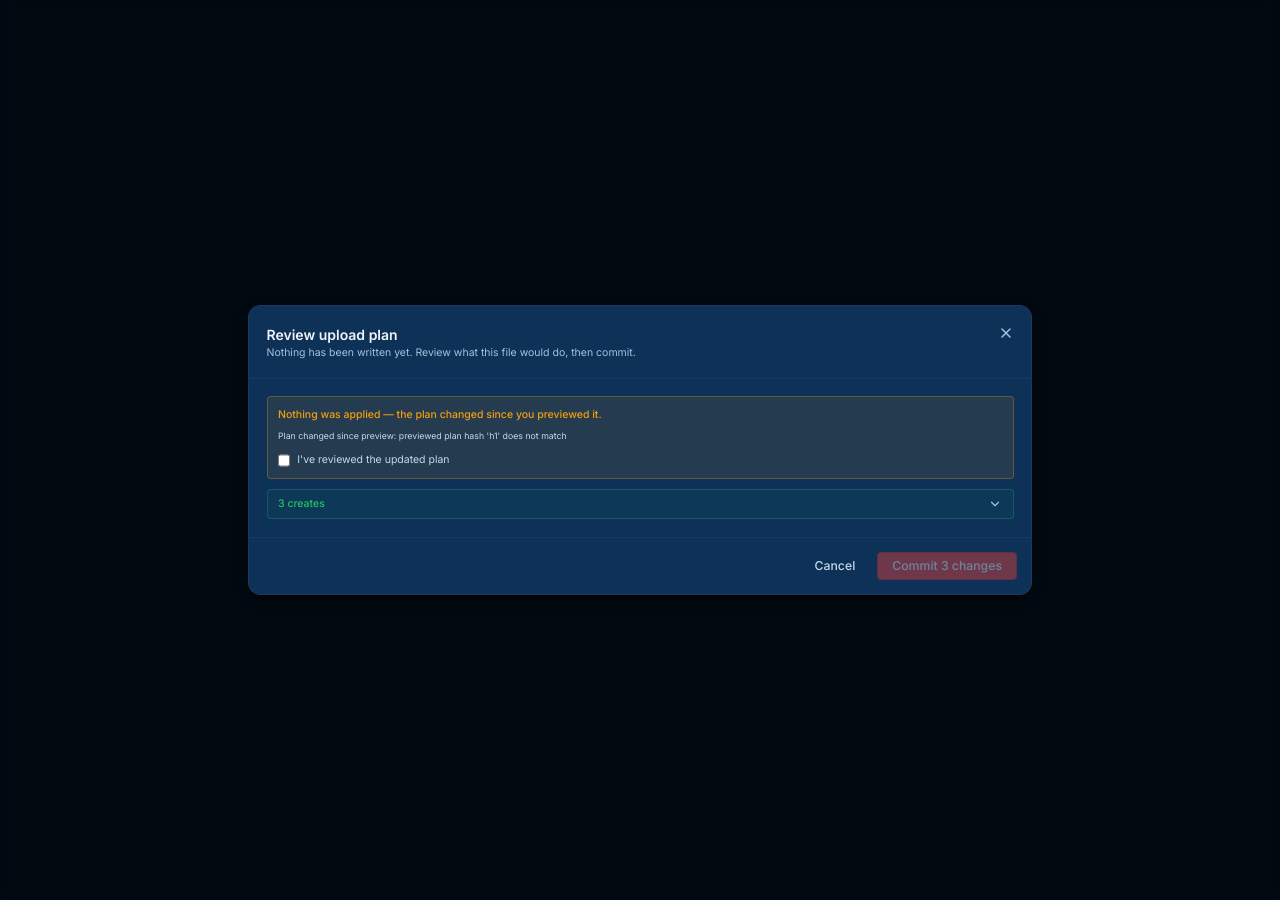
Test case: UploadPlanModal — stale › arms commit once the researcher confirms they reviewed the new plan
The image size is (1280, 900).
Step 1. Click the checkbox labelled "I've reviewed the updated plan" → (284, 461), box [278, 454, 290, 467]
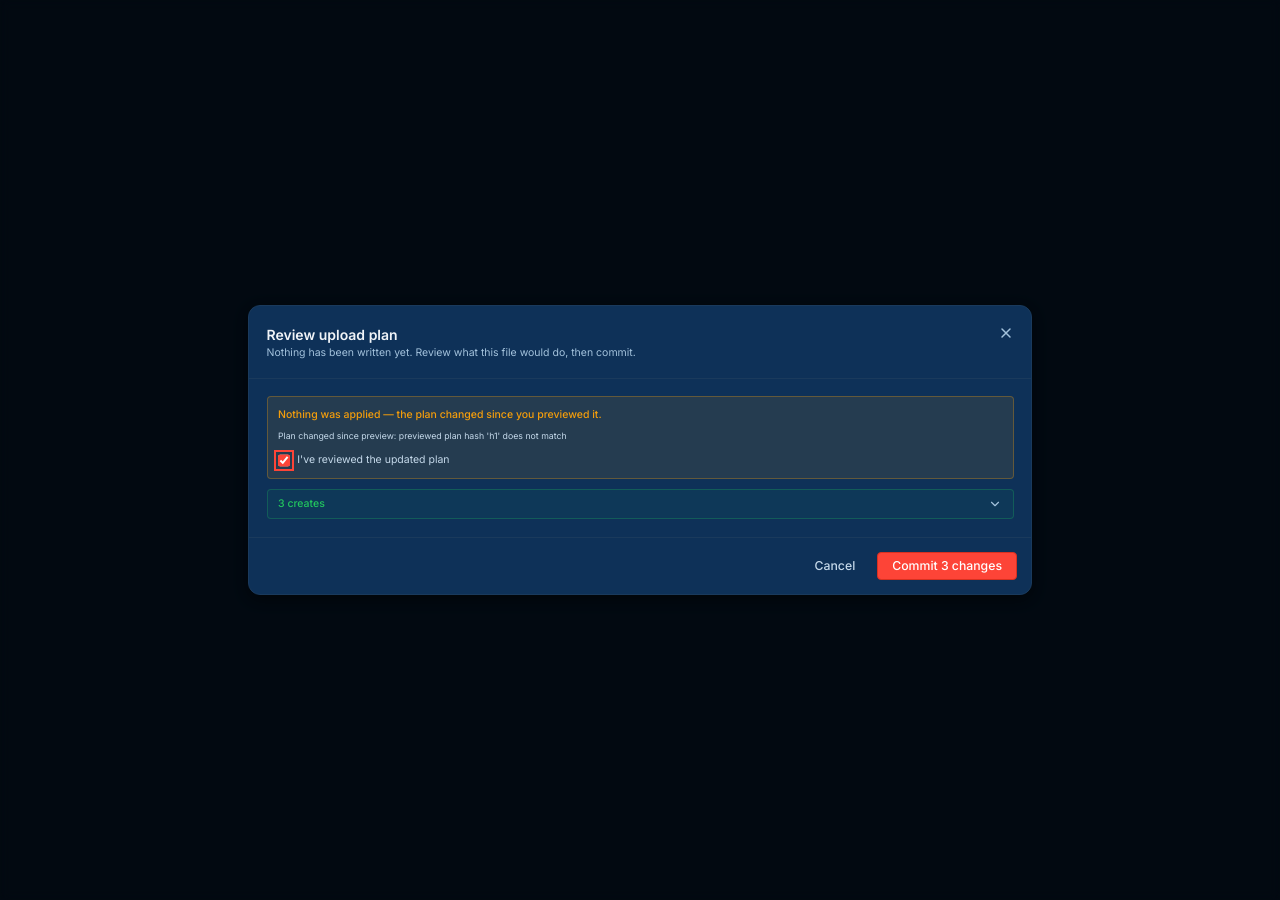
Result: the button "Commit 3 changes" is enabled at [877, 552, 1017, 580]
